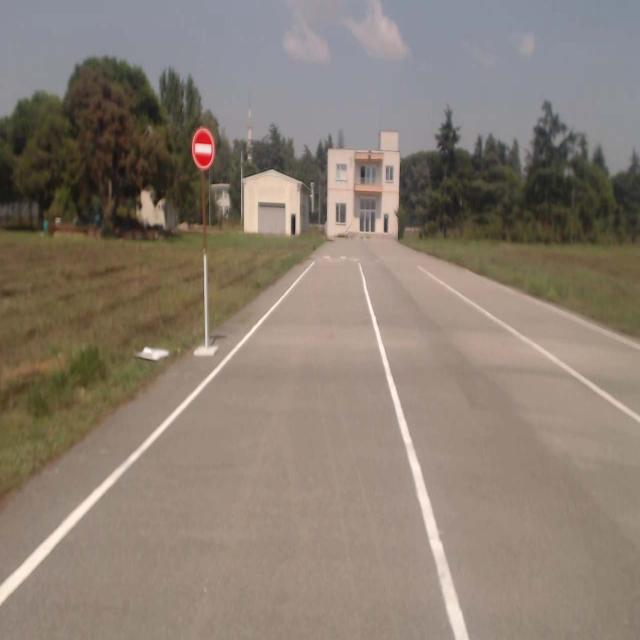girisyok: (192, 126, 215, 170)
